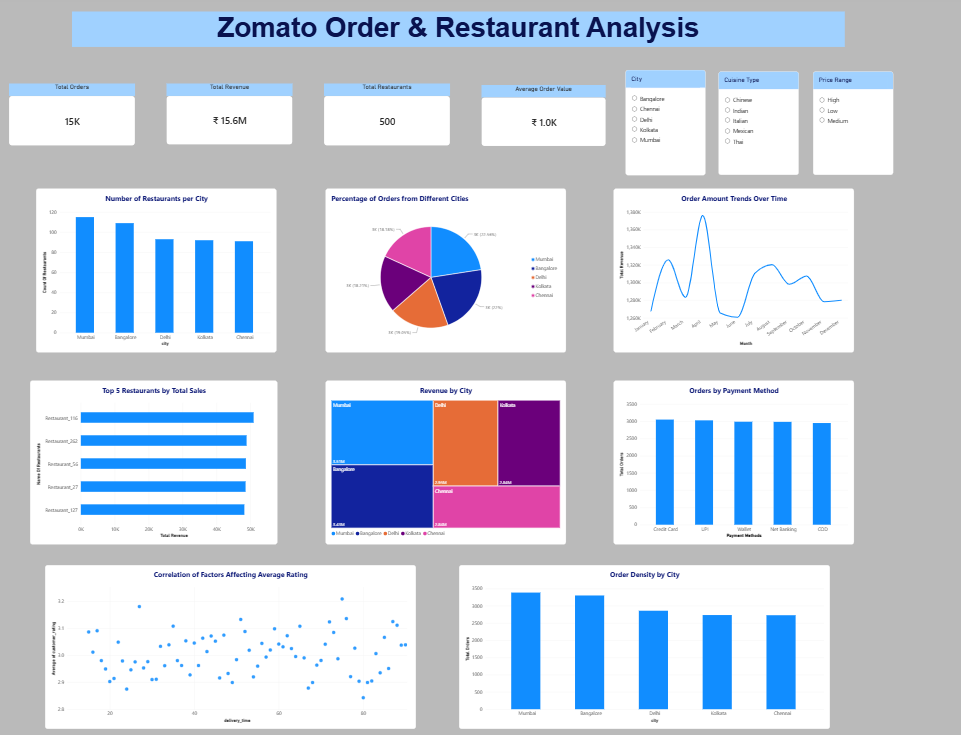

Layout of this report page (visuals, bound fields, positions):
{"tool":"powerbi","page":{"name":"Page 1","canvas":[3840,2160],"ordinal":0},"visuals":[{"type":"textbox","box":[235,40,2240,102.5],"z":0},{"type":"cardVisual","title":"Total Orders","fields":{"Data":["Zomato_Orders -updated csv.Total Orders"]},"box":[52.5,247.5,365,180],"z":1000},{"type":"cardVisual","title":"Total Revenue","fields":{"Data":["Zomato_Orders -updated csv.Total Revenue"]},"box":[509.6,247.5,365,177.5],"z":2000},{"type":"cardVisual","title":"Total Restaurants","fields":{"Data":["Zomato_Orders -updated csv.Total Restaurants"]},"box":[966.7,247.5,365,180],"z":3000},{"type":"cardVisual","title":"Average Order Value","fields":{"Data":["Zomato_Orders -updated csv.Average Order Value"]},"box":[1423.8,250,360,177.5],"z":4000},{"type":"listSlicer","title":"City","fields":{"Values":["Zomato_Restaurants -updated csv.city"]},"box":[1837.5,207.5,232,305.1],"z":5000},{"type":"listSlicer","title":"Cuisine Type","fields":{"Values":["Zomato_Restaurants -updated csv.cuisine"]},"box":[2109.8,212.5,232.5,300],"z":6000},{"type":"listSlicer","title":"Price Range","fields":{"Values":["Zomato_Restaurants -updated csv.price_range"]},"box":[2382.5,212.5,232.5,300],"z":7000},{"type":"clusteredColumnChart","title":"Number of Restaurants per City","fields":{"Category":["Zomato_Restaurants -updated csv.city"],"Y":["CountNonNull(Zomato_Restaurants -updated csv.restaurant_id)"]},"box":[132.5,550,697.5,475],"z":8000},{"type":"pieChart","title":"Percentage of Orders from Different Cities","fields":{"Category":["Zomato_Restaurants -updated csv.city"],"Y":["Zomato_Orders -updated csv.Total Orders"]},"box":[967.5,550,697.5,475],"z":9000},{"type":"lineChart","title":"Order Amount Trends Over Time","fields":{"Category":["Zomato_Orders -updated csv.order_date.Variation.Date Hierarchy.Month"],"Y":["Zomato_Orders -updated csv.Total Revenue"]},"box":[1802.5,550,697.5,475],"z":10000},{"type":"clusteredBarChart","title":"Top 5 Restaurants by Total Sales","fields":{"Category":["Zomato_Restaurants -updated csv.restaurant_name"],"Y":["Zomato_Orders -updated csv.Total Revenue"]},"box":[112.5,1107.5,717.5,475],"z":11000},{"type":"treemap","title":"Revenue by City","fields":{"Group":["Zomato_Restaurants -updated csv.city"],"Values":["Zomato_Orders -updated csv.Total Revenue"]},"box":[967.5,1107.5,697.5,475],"z":12000},{"type":"clusteredColumnChart","title":"Orders by Payment Method","fields":{"Category":["Zomato_Orders -updated csv.payment_method"],"Y":["Zomato_Orders -updated csv.Total Orders"]},"box":[1802.5,1107.5,697.5,475],"z":13000},{"type":"clusteredColumnChart","title":"Order Density by City","fields":{"Category":["Zomato_Restaurants -updated csv.city"],"Y":["Zomato_Orders -updated csv.Total Orders"]},"box":[1355,1642.5,1075,475],"z":14000},{"type":"scatterChart","title":"Correlation of Factors Affecting Average Rating","fields":{"X":["Zomato_Orders -updated csv.delivery_time"],"Y":["Avg(Zomato_Orders -updated csv.customer_rating)"]},"box":[155,1642.5,1075,475],"z":15000}]}

Visuals, with their boxes on the page's 3840x2160 design canvas (x1, y1, x2, y2). These are canvas units, not pixel positions in the 961x735 screenshot, which may show the page scaled, cropped or inside an application window:
textbox: select_region(235, 40, 2475, 142)
"Total Orders" cardVisual: select_region(52, 248, 418, 428)
"Total Revenue" cardVisual: select_region(510, 248, 875, 425)
"Total Restaurants" cardVisual: select_region(967, 248, 1332, 428)
"Average Order Value" cardVisual: select_region(1424, 250, 1784, 428)
"City" listSlicer: select_region(1838, 208, 2070, 513)
"Cuisine Type" listSlicer: select_region(2110, 212, 2342, 512)
"Price Range" listSlicer: select_region(2382, 212, 2615, 512)
"Number of Restaurants per City" clusteredColumnChart: select_region(132, 550, 830, 1025)
"Percentage of Orders from Different Cities" pieChart: select_region(968, 550, 1665, 1025)
"Order Amount Trends Over Time" lineChart: select_region(1802, 550, 2500, 1025)
"Top 5 Restaurants by Total Sales" clusteredBarChart: select_region(112, 1108, 830, 1582)
"Revenue by City" treemap: select_region(968, 1108, 1665, 1582)
"Orders by Payment Method" clusteredColumnChart: select_region(1802, 1108, 2500, 1582)
"Order Density by City" clusteredColumnChart: select_region(1355, 1642, 2430, 2118)
"Correlation of Factors Affecting Average Rating" scatterChart: select_region(155, 1642, 1230, 2118)
